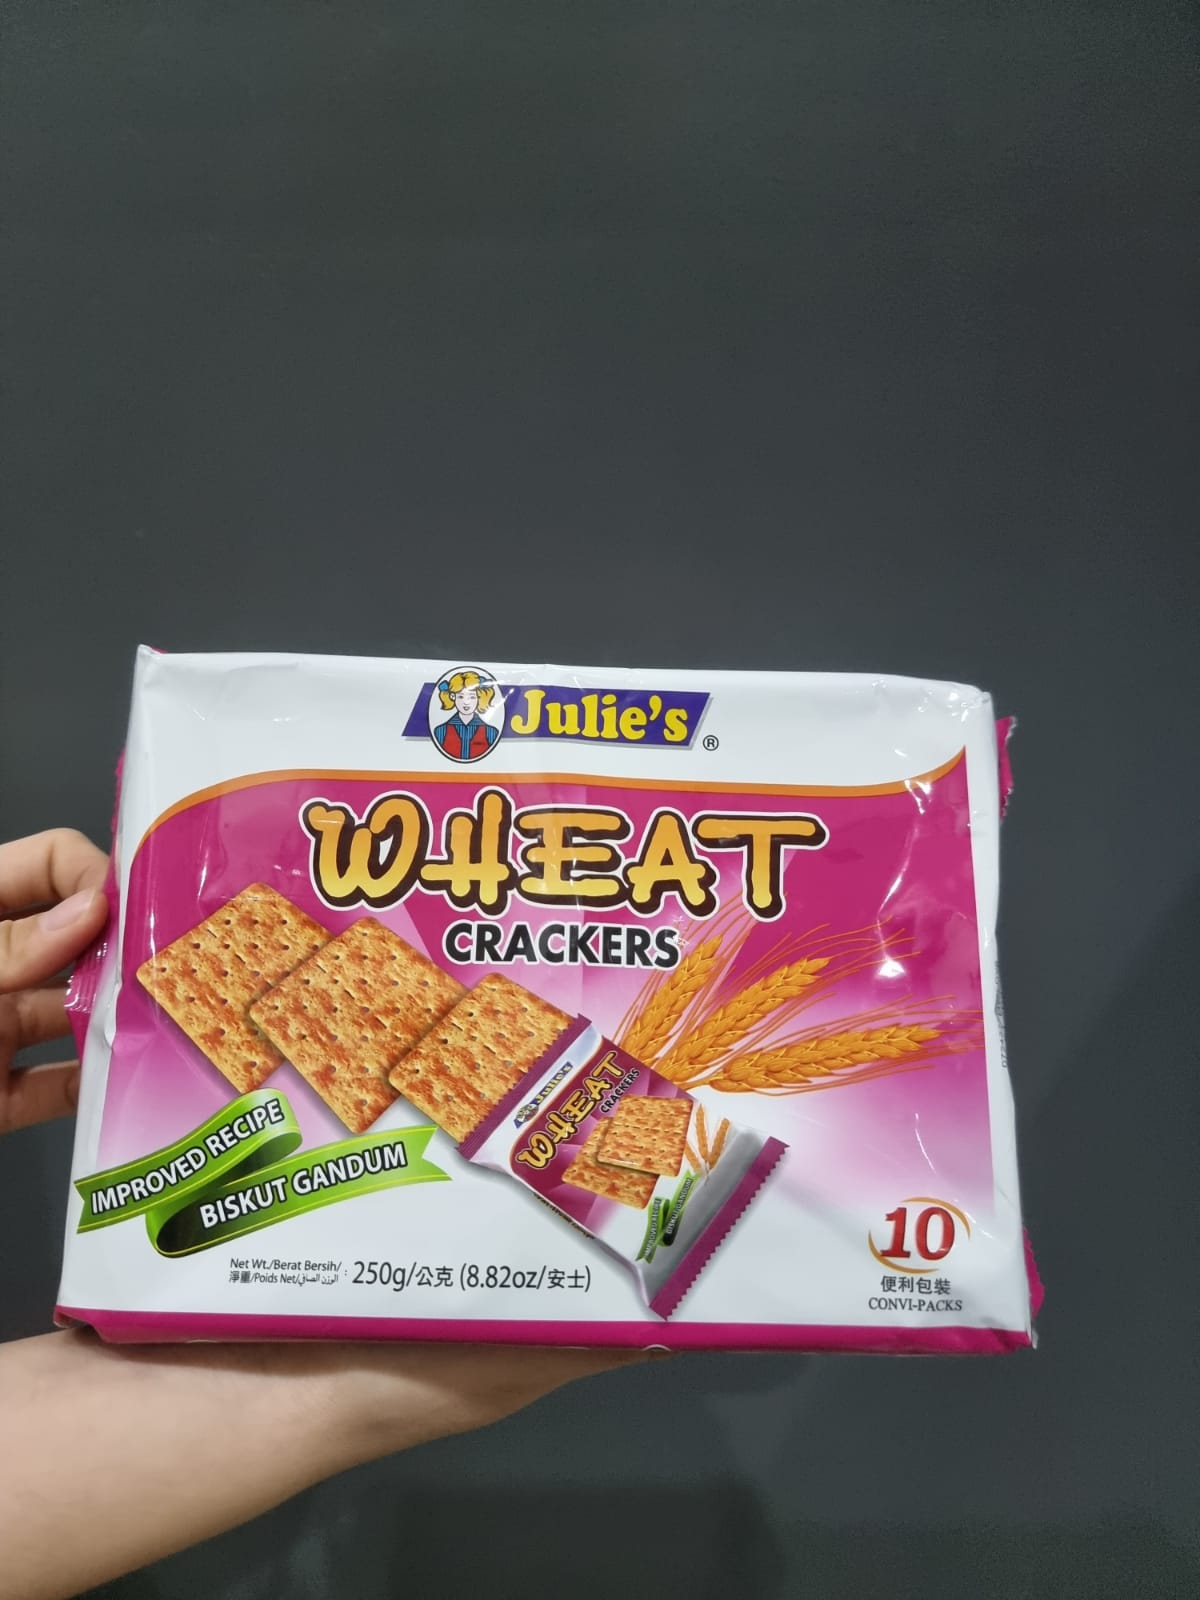Biscuits: (129, 665, 996, 1325)
